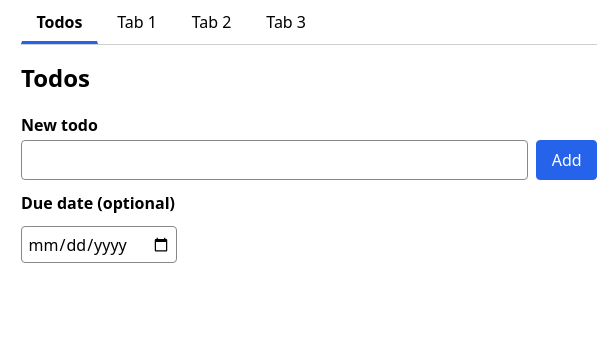
Test case: UI11 failed add › UI11 in App: network failure shows the client message
Type "Offline" into the field with id "new-title" at [275, 160], box [21,140,528,180]
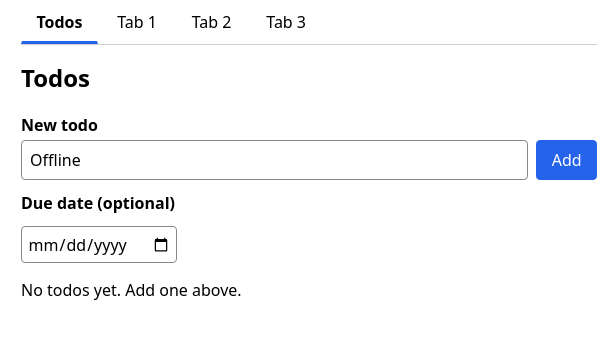
Submit the form with id "add-form", box [21,114,597,263]
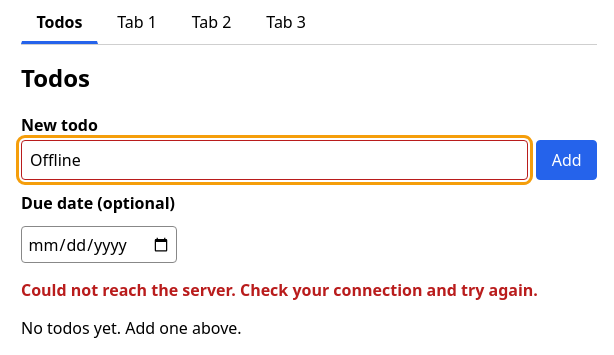
Check: the text with id "form-error" reads "Could not reach the server. Check your connection and try again.", box [21,279,538,301]
